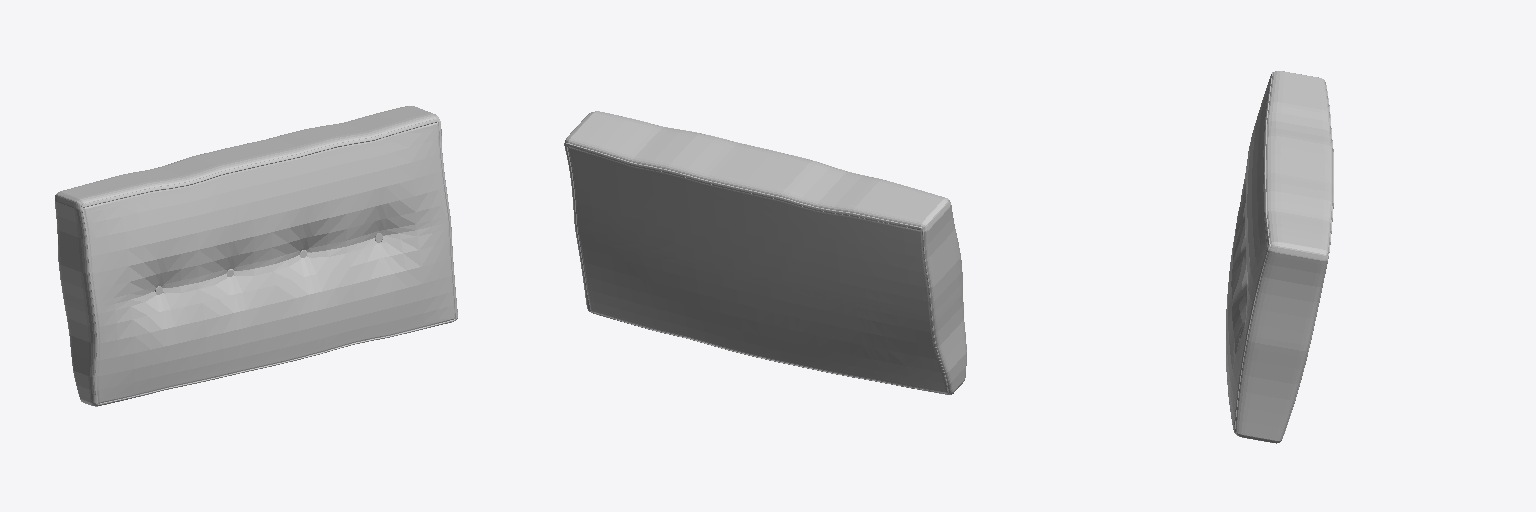
Rendered from couch-pillow-right.obj.
The picture shows the model from 3 angles: view 1: azimuth 30°, elevation 25°; view 2: azimuth 150°, elevation 25°; view 3: azimuth 270°, elevation 25°; orthographic projection.
Visible parts, largest first — view 1: 1_pillow_r_Untitled.003; view 2: 1_pillow_r_Untitled.003; view 3: 1_pillow_r_Untitled.003.
Boxes of the visible parts, x1,y1,x2,y2 form: 1_pillow_r_Untitled.003: [55, 106, 457, 406]; 1_pillow_r_Untitled.003: [564, 111, 966, 394]; 1_pillow_r_Untitled.003: [1226, 71, 1333, 443].
Size of the model in its own units: 2.34 by 1.24 by 0.604.